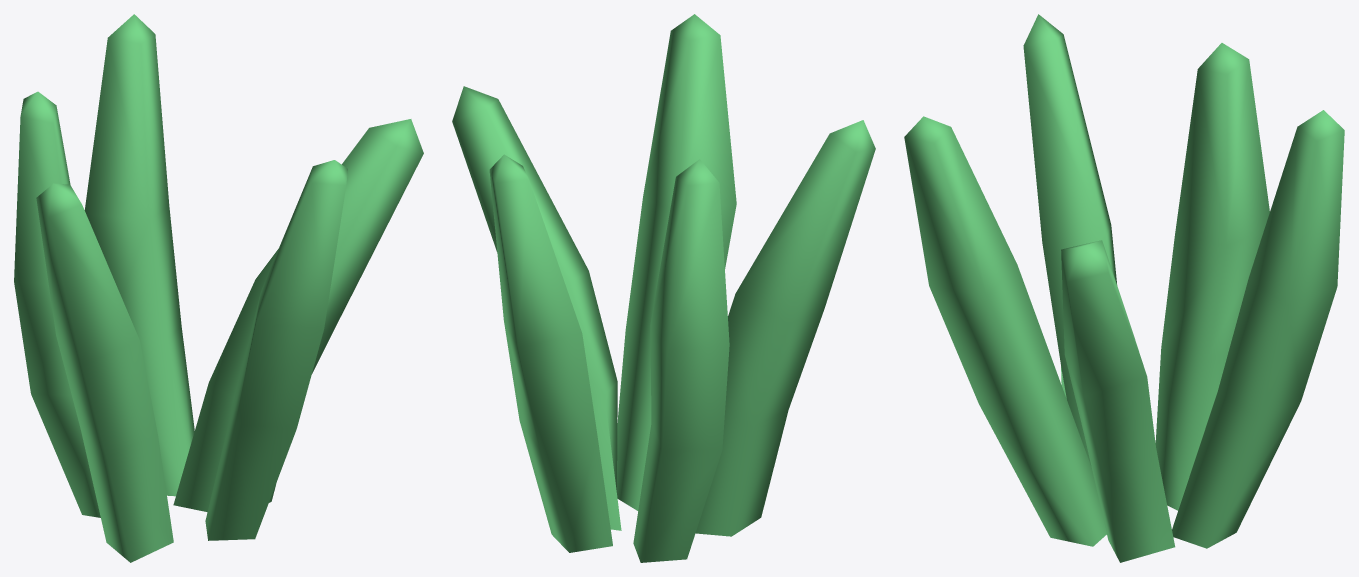
File: Grass_A_06_LOD2.gltf
3 renders of one model, left to right at view 1: azimuth 30°, elevation 25°; view 2: azimuth 150°, elevation 25°; view 3: azimuth 270°, elevation 25°, orthographic. The views are drawn at different scales.
Visible parts, largest first — view 1: Grass_A_06_LOD2_Cube.718; view 2: Grass_A_06_LOD2_Cube.718; view 3: Grass_A_06_LOD2_Cube.718.
Boxes of the visible parts, x1,y1,x2,y2 form: Grass_A_06_LOD2_Cube.718: (14,14,423,562); Grass_A_06_LOD2_Cube.718: (452,14,875,562); Grass_A_06_LOD2_Cube.718: (904,14,1344,562).
Size of the model in its own units: 3.12 by 3.22 by 2.96.
Materials: 1 (1 with a texture image).
